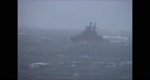tau_muctieu: (70, 20, 106, 43)
